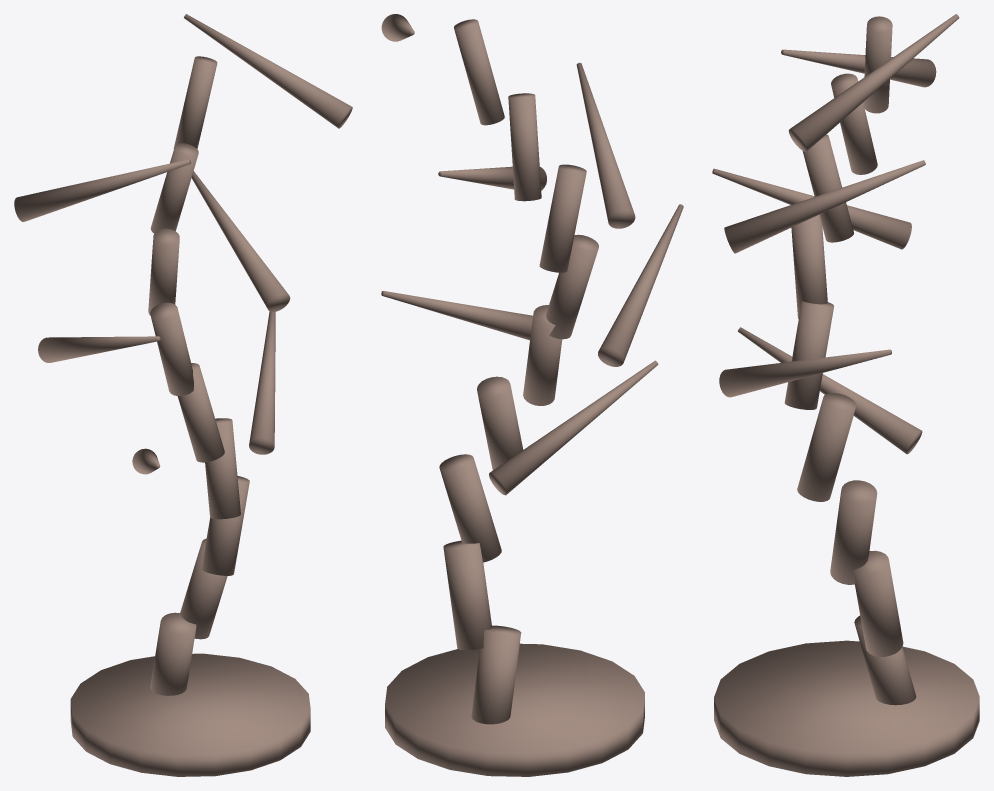
File: coat_rack_twisted_anomaly.glb
The picture shows the model from 3 angles, left to right: view 1: azimuth 30°, elevation 25°; view 2: azimuth 150°, elevation 25°; view 3: azimuth 270°, elevation 25°; orthographic projection. The views are drawn at different scales.
Parts seen in each view (by area): view 1: WarpBase, Rib_8, Rib_7, Spine_0, Rib_6, Spine_5, Spine_3, Rib_4, Spine_4, Spine_1, Spine_2, Spine_8 (+3 smaller); view 2: WarpBase, Spine_1, Spine_0, Spine_2, Rib_3, Spine_6, Rib_5, Rib_7, Spine_7, Spine_5, Spine_3, Spine_8 (+4 smaller); view 3: WarpBase, Spine_3, Rib_6, Spine_1, Rib_8, Spine_2, Rib_4, Spine_4, Rib_3, Rib_5, Spine_5, Spine_6 (+4 smaller).
Part boxes in pixels (bbox=[...]): WarpBase: bbox=[70, 653, 310, 776]; Rib_8: bbox=[184, 14, 352, 128]; Rib_7: bbox=[14, 159, 190, 221]; Spine_0: bbox=[150, 612, 196, 695]; Rib_6: bbox=[191, 171, 290, 311]; Spine_5: bbox=[150, 302, 193, 395]; Spine_3: bbox=[205, 418, 240, 519]; Rib_4: bbox=[249, 311, 275, 454]; Spine_4: bbox=[177, 363, 224, 462]; Spine_1: bbox=[180, 538, 227, 639]; Spine_2: bbox=[201, 476, 249, 575]; Spine_8: bbox=[173, 56, 217, 148]; WarpBase: bbox=[385, 643, 644, 776]; Spine_1: bbox=[443, 540, 492, 650]; Spine_0: bbox=[471, 625, 521, 724]; Spine_2: bbox=[439, 454, 501, 562]; Rib_3: bbox=[489, 360, 658, 495]; Spine_6: bbox=[539, 164, 586, 272]; Rib_5: bbox=[598, 204, 683, 366]; Rib_7: bbox=[576, 62, 635, 228]; Spine_7: bbox=[508, 93, 541, 201]; Spine_5: bbox=[546, 234, 598, 339]; Spine_3: bbox=[477, 376, 523, 470]; Spine_8: bbox=[454, 19, 504, 125]; WarpBase: bbox=[714, 640, 979, 776]; Spine_3: bbox=[797, 393, 856, 501]; Rib_6: bbox=[724, 160, 925, 253]; Spine_1: bbox=[854, 550, 903, 656]; Rib_8: bbox=[788, 14, 959, 151]; Spine_2: bbox=[830, 480, 877, 584]; Rib_4: bbox=[719, 349, 891, 397]; Spine_4: bbox=[784, 301, 833, 409]; Rib_3: bbox=[737, 327, 922, 454]; Rib_5: bbox=[712, 168, 911, 249]; Spine_5: bbox=[791, 215, 827, 318]; Spine_6: bbox=[802, 134, 853, 242].
Bounding box in the file's own units: 0.8181 × 1.82 × 0.6043.
